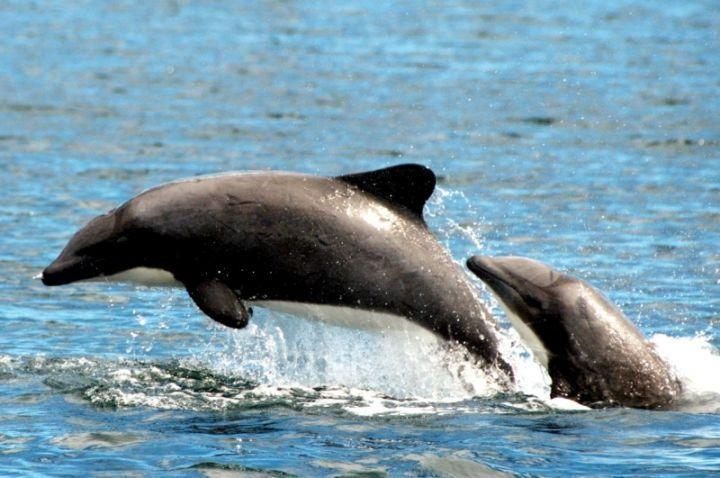fish: (39, 162, 567, 408), (465, 251, 690, 413)
